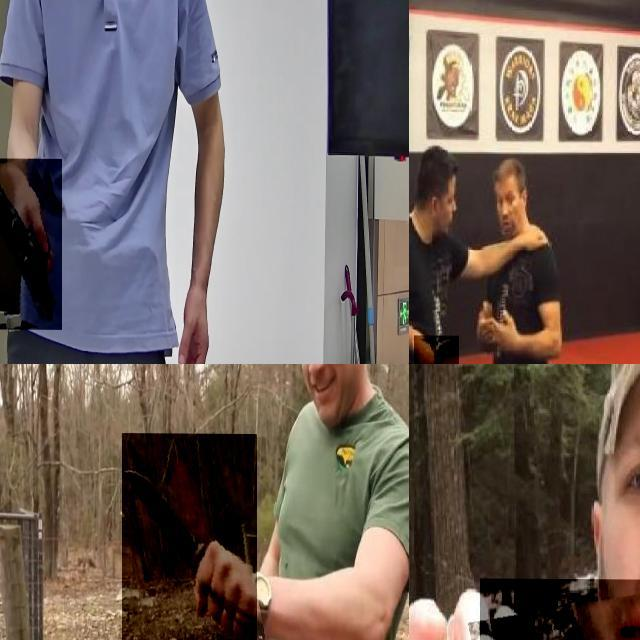-: (122, 432, 256, 640), (413, 334, 459, 364)
gun-knife-thesis - v11 Yolov5 augmented: (0, 158, 62, 329)
